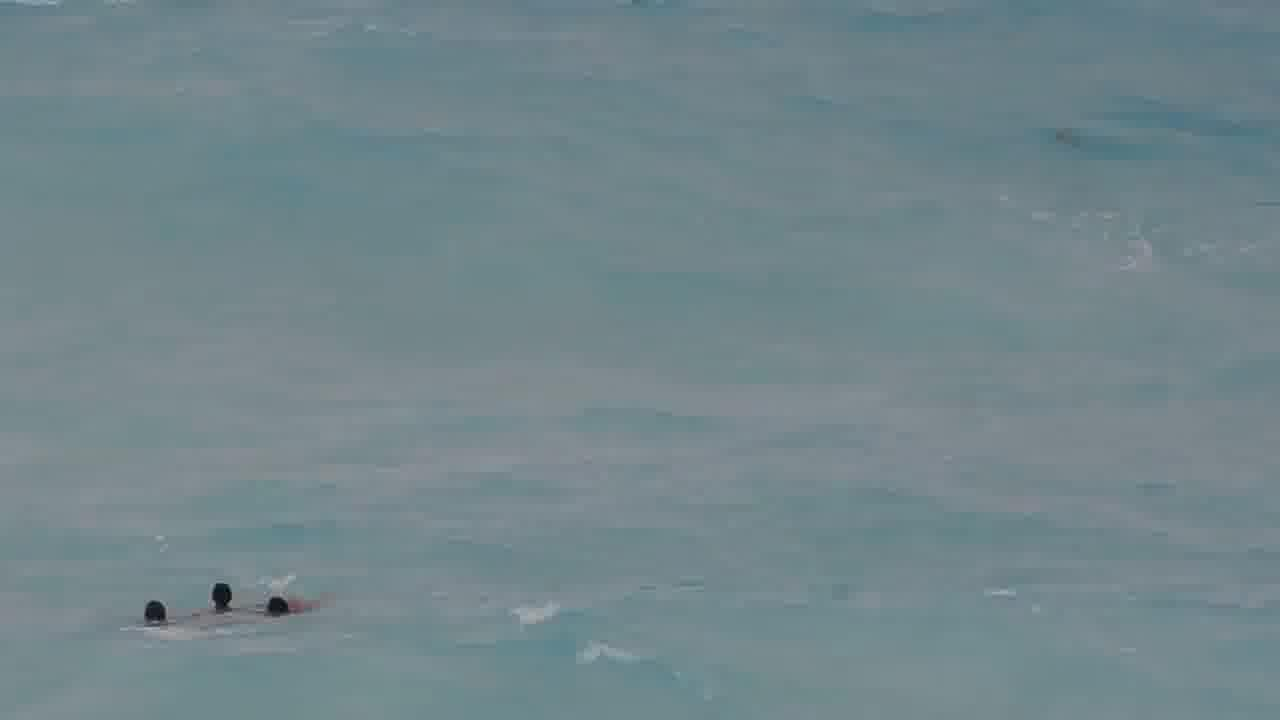swimmer: (133, 598, 187, 625), (265, 594, 302, 633), (200, 577, 231, 609)
